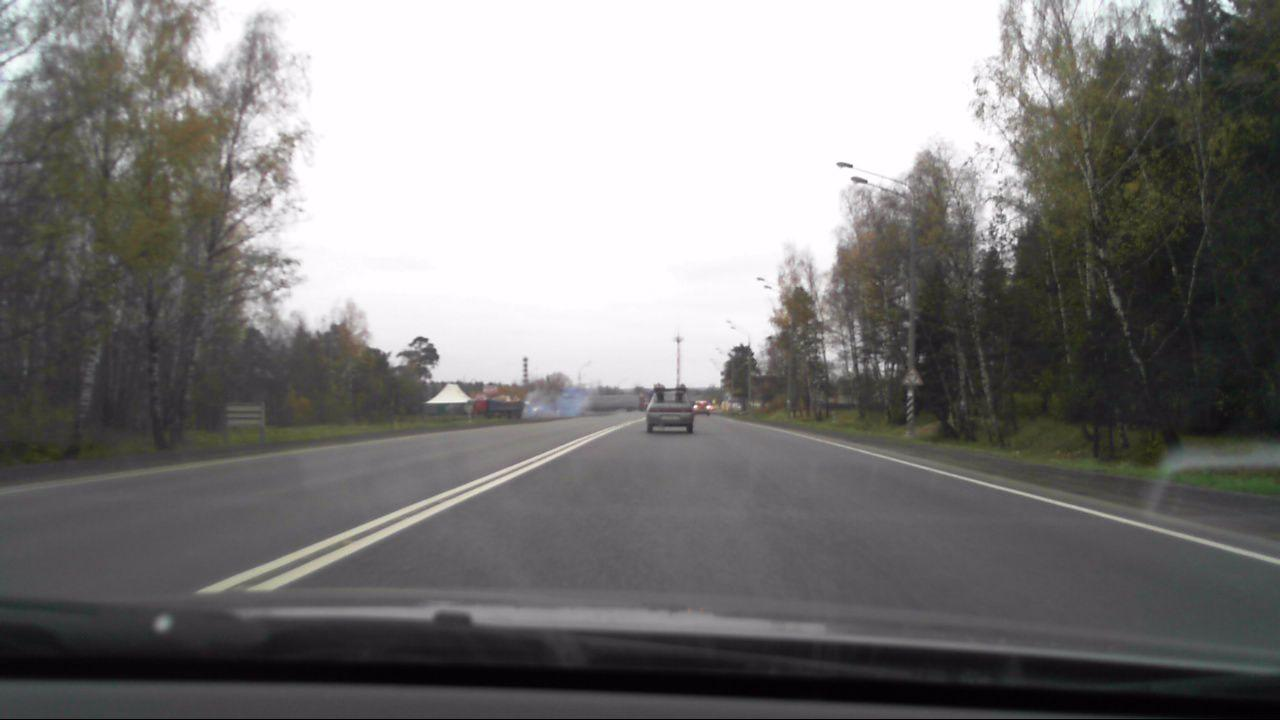1_7: (898, 365, 928, 388)
